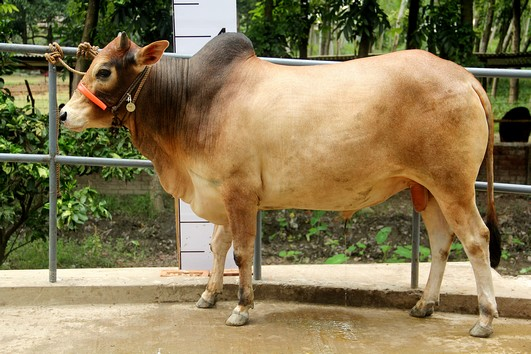cow: (46, 26, 505, 336)
